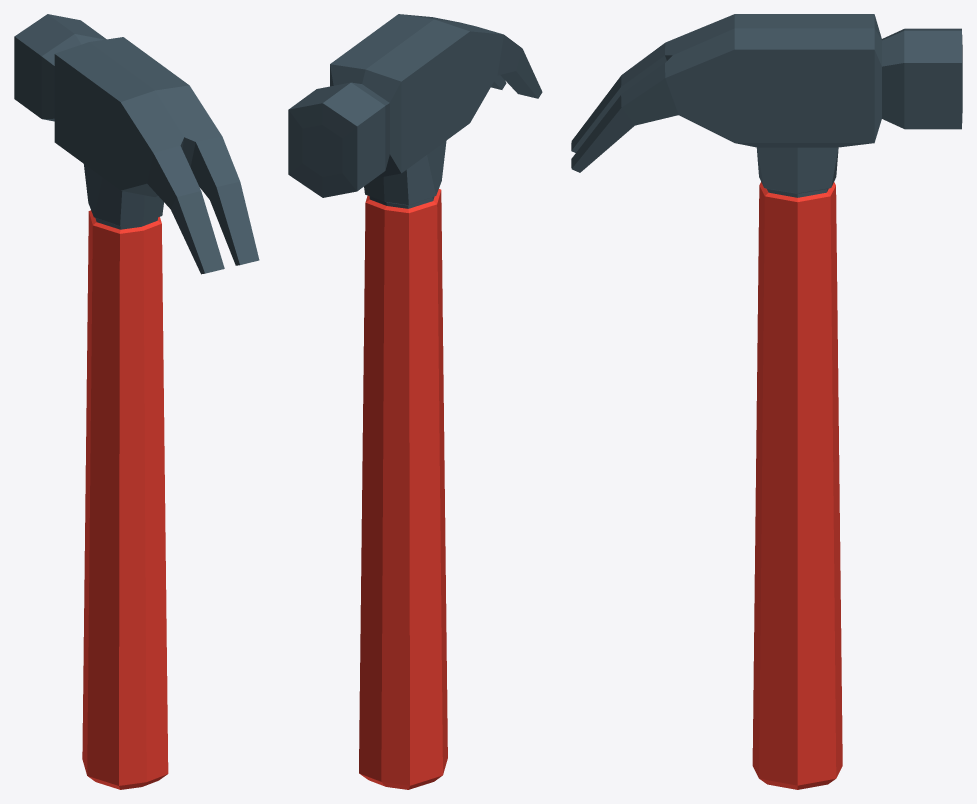
Rendered from hammer-DOWEW_wy.glb.
3 views of the same model, side by side, from view 1: azimuth 30°, elevation 25°; view 2: azimuth 150°, elevation 25°; view 3: azimuth 270°, elevation 25° (orthographic). The views are drawn at different scales.
Parts seen in each view (by area): view 1: hammer:Hammer_Circle.027; view 2: hammer:Hammer_Circle.027; view 3: hammer:Hammer_Circle.027.
Part boxes in pixels (x1=…): hammer:Hammer_Circle.027: x1=14, y1=14, x2=259, y2=789; hammer:Hammer_Circle.027: x1=288, y1=14, x2=542, y2=789; hammer:Hammer_Circle.027: x1=571, y1=14, x2=962, y2=789.
Bounding box in the file's own units: 1.15 × 10.17 × 4.83.
